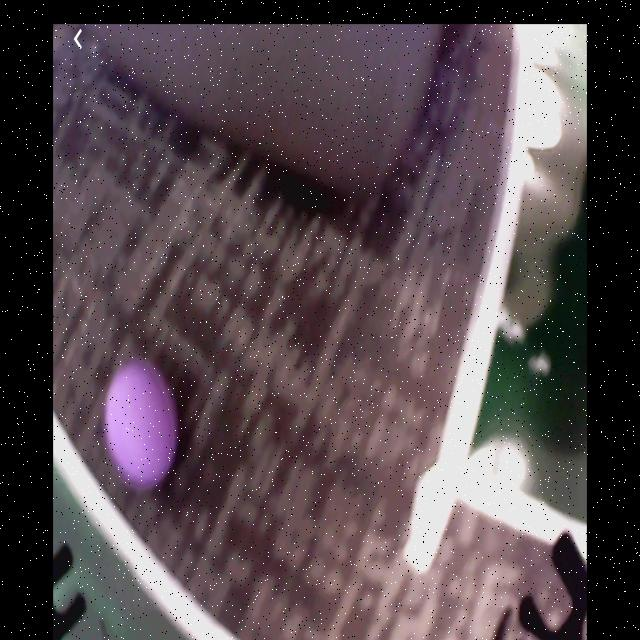ball: (107, 363, 176, 491)
